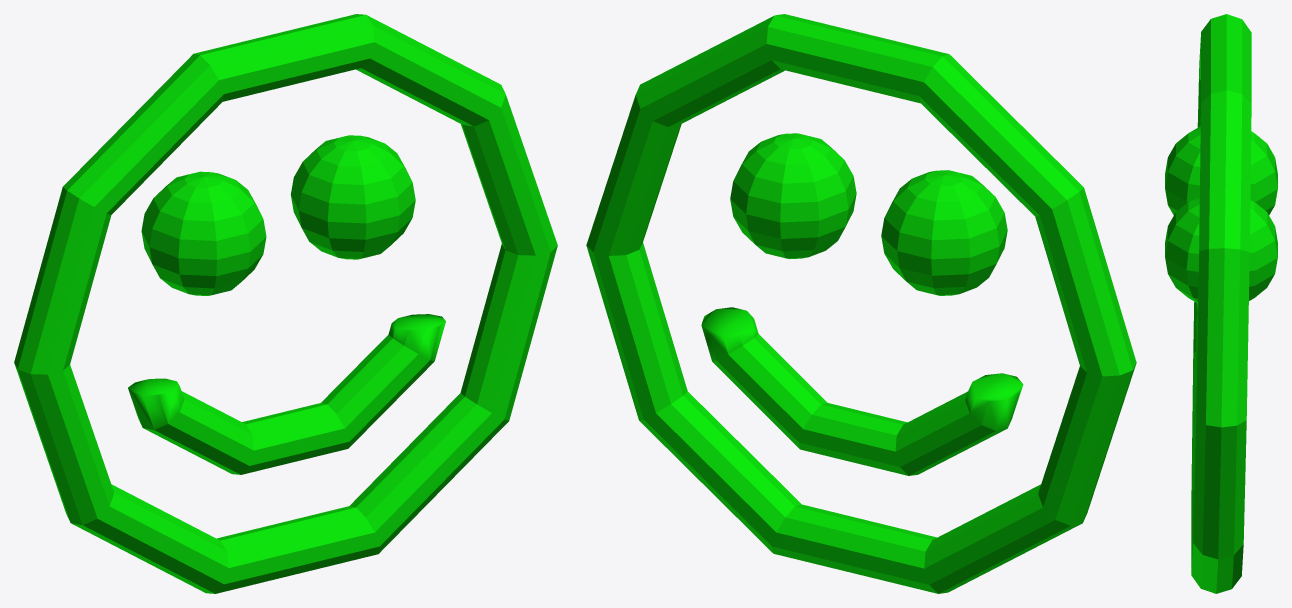
File: GreenEnemyHealth.fbx
The picture shows the model from 3 angles, left to right: view 1: azimuth 30°, elevation 25°; view 2: azimuth 150°, elevation 25°; view 3: azimuth 270°, elevation 25°; orthographic projection. The views are drawn at different scales.
Parts seen in each view (by area): view 1: pTorus3; view 2: pTorus3; view 3: pTorus3.
Boxes of the visible parts, x1,y1,x2,y2 form: pTorus3: (14, 14, 557, 593); pTorus3: (586, 14, 1136, 593); pTorus3: (1165, 14, 1277, 593).
Size of the model in its own units: 2.2 by 2.09 by 0.4245.
